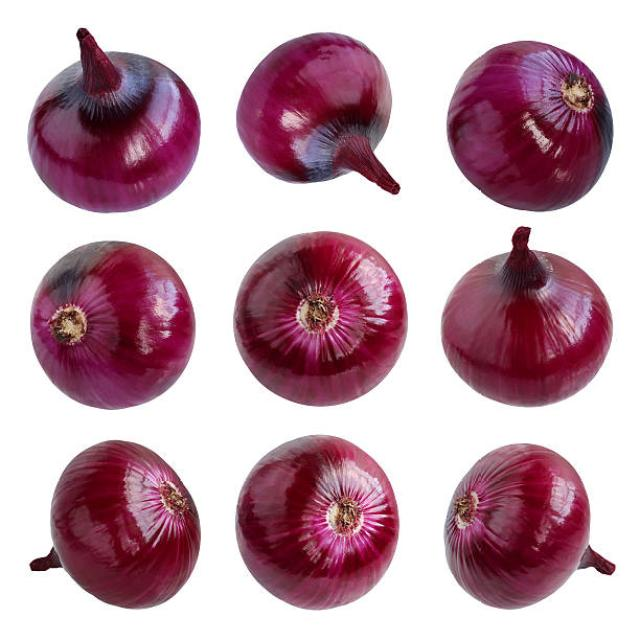onion: (231, 228, 411, 415), (440, 39, 620, 216), (227, 432, 400, 610), (30, 230, 198, 412), (440, 238, 613, 412), (27, 49, 205, 218), (226, 31, 412, 192), (38, 439, 202, 613), (438, 441, 598, 609)
